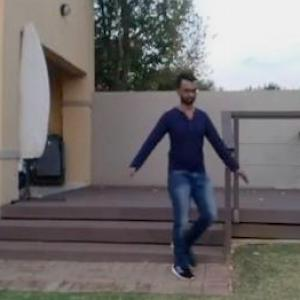land: (121, 85, 243, 284)
